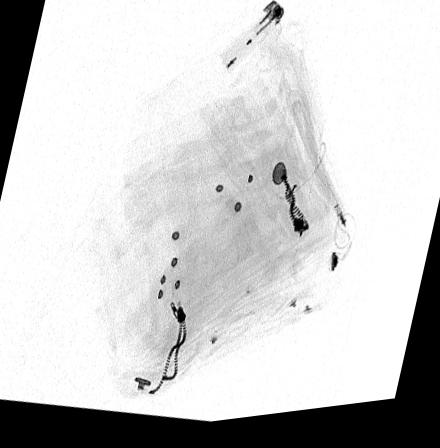Lighter: (218, 6, 284, 76)
